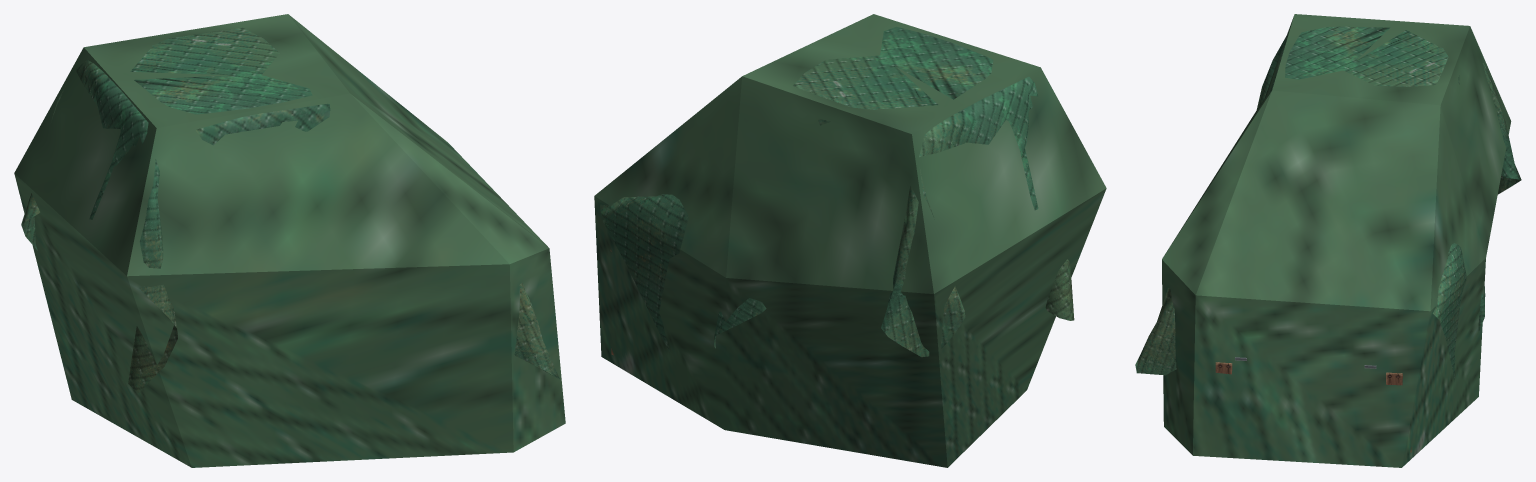
Rendered from crate_stack02.fbx.
The picture shows the model from 3 angles, left to right: view 1: azimuth 30°, elevation 25°; view 2: azimuth 150°, elevation 25°; view 3: azimuth 270°, elevation 25°; orthographic projection. The views are drawn at different scales.
Visible parts, largest first — view 1: crate_stack02_COL, crate_stack02; view 2: crate_stack02_COL, crate_stack02; view 3: crate_stack02_COL, crate_stack02.
Boxes of the visible parts, left/top/right/bottom form: crate_stack02_COL: left=14, top=14, right=565, bottom=467; crate_stack02: left=21, top=27, right=559, bottom=393; crate_stack02_COL: left=594, top=14, right=1106, bottom=467; crate_stack02: left=600, top=26, right=1074, bottom=357; crate_stack02_COL: left=1162, top=14, right=1511, bottom=467; crate_stack02: left=1135, top=26, right=1521, bottom=452.
Bounding box in the file's own units: 1.79 × 1.36 × 1.61.
